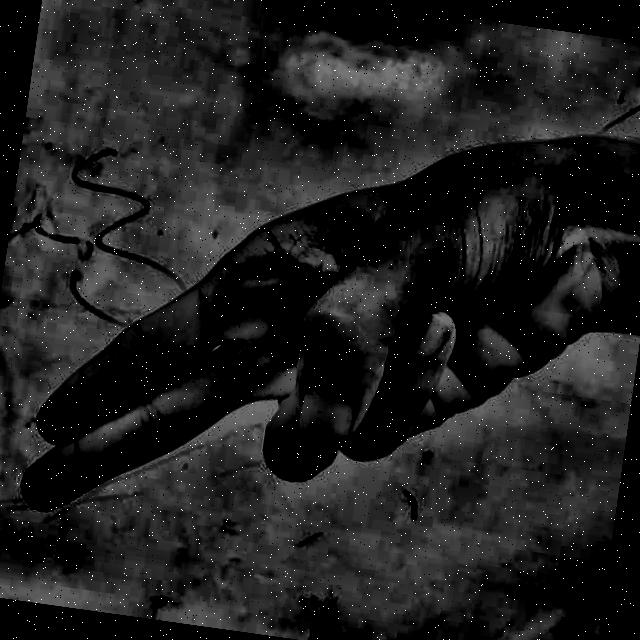Ha: (0, 67, 610, 630)
